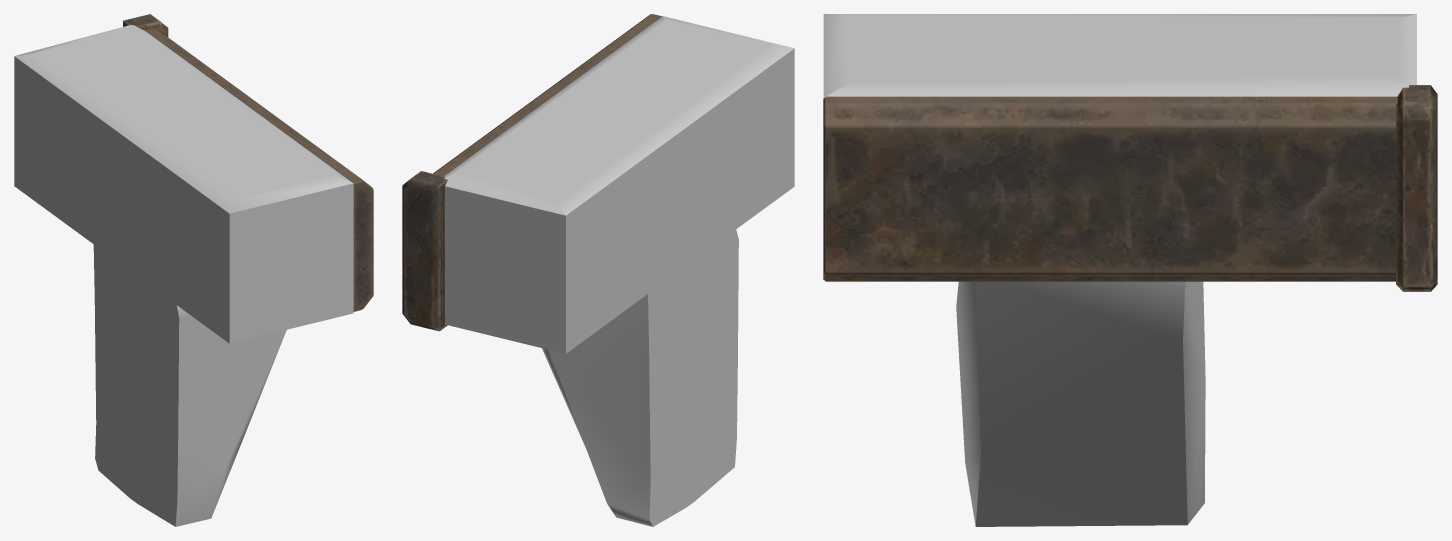
The picture shows the model from 3 angles, left to right: view 1: azimuth 30°, elevation 25°; view 2: azimuth 150°, elevation 25°; view 3: azimuth 270°, elevation 25°; orthographic projection. The views are drawn at different scales.
Parts seen in each view (by area): view 1: SM_Dowdun_Wall_Trim_Corner_01_LOD0; view 2: SM_Dowdun_Wall_Trim_Corner_01_LOD0; view 3: SM_Dowdun_Wall_Trim_Corner_01_LOD0.
Boxes of the visible parts, box(x1,y1,x2,y2) form: SM_Dowdun_Wall_Trim_Corner_01_LOD0: box(14, 14, 373, 526); SM_Dowdun_Wall_Trim_Corner_01_LOD0: box(402, 14, 794, 526); SM_Dowdun_Wall_Trim_Corner_01_LOD0: box(823, 14, 1437, 526).
Size of the model in its own units: 0.5995 by 1.41 by 1.55.
